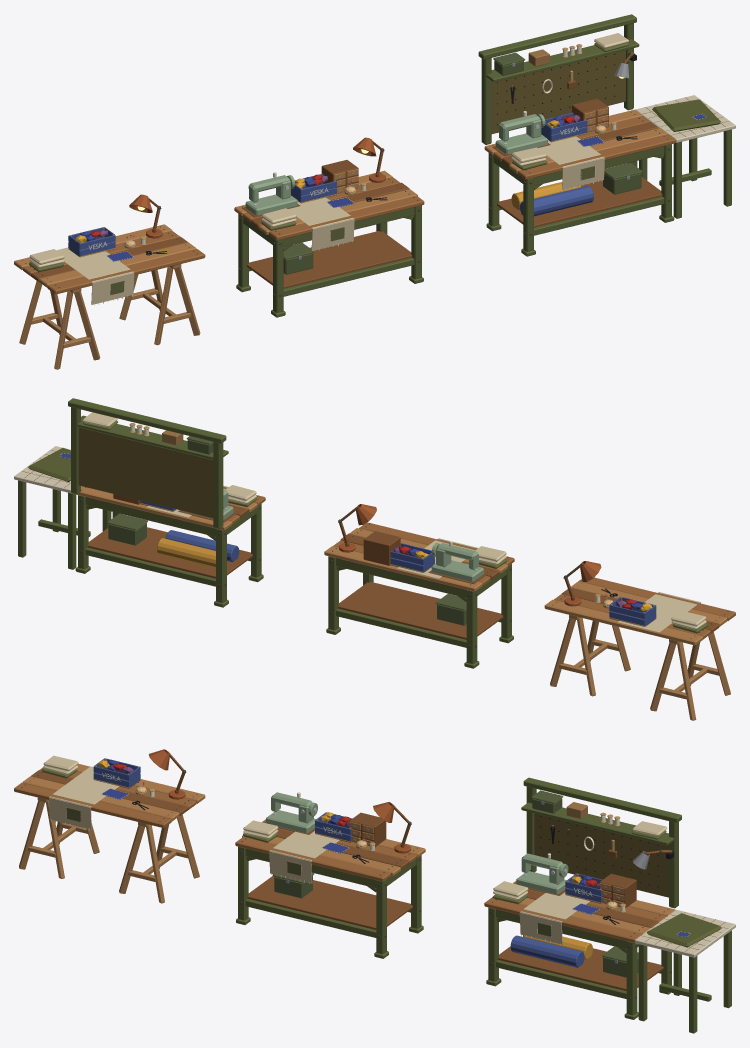
Rendered from sewing.glb.
3 renders of one model, top to bottom at view 1: azimuth 30°, elevation 25°; view 2: azimuth 150°, elevation 25°; view 3: azimuth 330°, elevation 25°, orthographic.
Parts seen in each view (by area): view 1: PB_Board, Frame_Shelf, Frame_Shelf.001, PB_Cap, Top_Plank_0, Top_Plank_0.002, Top_Plank_0.001, Ext_Jacket, Ext_Top, PB_Shelf, Runner, Frame_Rail_-1 (+27 smaller); view 2: PB_Board, Frame_Shelf, Frame_Shelf.001, PB_Cap, Top_Plank_4, Frame_Apron_1.001, Frame_Apron_1, Top_Plank_4.001, PB_Shelf, Frame_Rail_1, Frame_Rail_1.001, Roll_Mustard (+23 smaller); view 3: PB_Board, Frame_Shelf, Frame_Shelf.001, PB_Cap, Ext_Top, Top_Plank_0, Ext_Jacket, Top_Plank_0.001, Top_Plank_0.002, Roll_Blue, PB_Shelf, Runner (+36 smaller).
Boxes of the visible parts, x1,y1,x2,y2 form: PB_Board: (491, 50, 625, 133); Frame_Shelf: (247, 231, 412, 288); Frame_Shelf.001: (497, 177, 662, 227); PB_Cap: (478, 14, 636, 59); Top_Plank_0: (47, 249, 205, 294); Top_Plank_0.002: (518, 134, 675, 179); Top_Plank_0.001: (269, 195, 424, 240); Ext_Jacket: (652, 99, 720, 131); Ext_Top: (635, 95, 735, 142); PB_Shelf: (486, 39, 639, 81); Runner: (56, 247, 130, 279); Frame_Rail_-1: (283, 257, 414, 296); PB_Board: (78, 427, 213, 517); Frame_Shelf: (338, 582, 503, 639); Frame_Shelf.001: (87, 527, 252, 578); PB_Cap: (68, 398, 226, 443); Top_Plank_4: (544, 599, 702, 645); Frame_Apron_1.001: (85, 497, 215, 536); Frame_Apron_1: (336, 558, 466, 597); Top_Plank_4.001: (324, 546, 482, 591); PB_Shelf: (77, 415, 228, 459); Frame_Rail_1: (336, 608, 466, 647); Frame_Rail_1.001: (85, 547, 215, 586); Roll_Mustard: (157, 538, 215, 568); PB_Board: (534, 813, 668, 897); Frame_Shelf: (247, 876, 412, 929); Frame_Shelf.001: (498, 946, 663, 990); PB_Cap: (523, 777, 681, 822); Ext_Top: (635, 909, 735, 957); Top_Plank_0: (14, 782, 171, 827); Ext_Jacket: (647, 913, 721, 947); Top_Plank_0.001: (235, 837, 390, 881); Top_Plank_0.002: (484, 897, 642, 942); Roll_Blue: (510, 935, 584, 967); PB_Shelf: (521, 802, 673, 845); Runner: (52, 766, 119, 804).
Bounding box in the file's own units: 6.81 × 1.66 × 0.8118.
